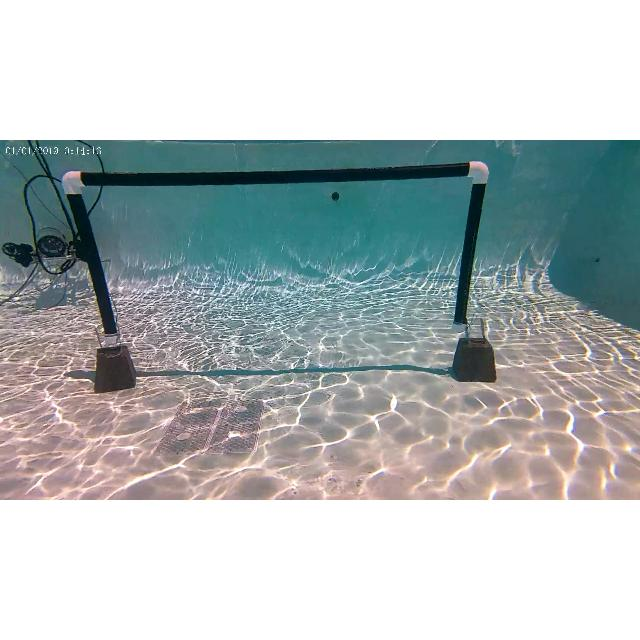prequal gate: (62, 161, 490, 345)
prequal gate leg l: (57, 166, 125, 346)
prequal gate leg r: (450, 158, 490, 346)
